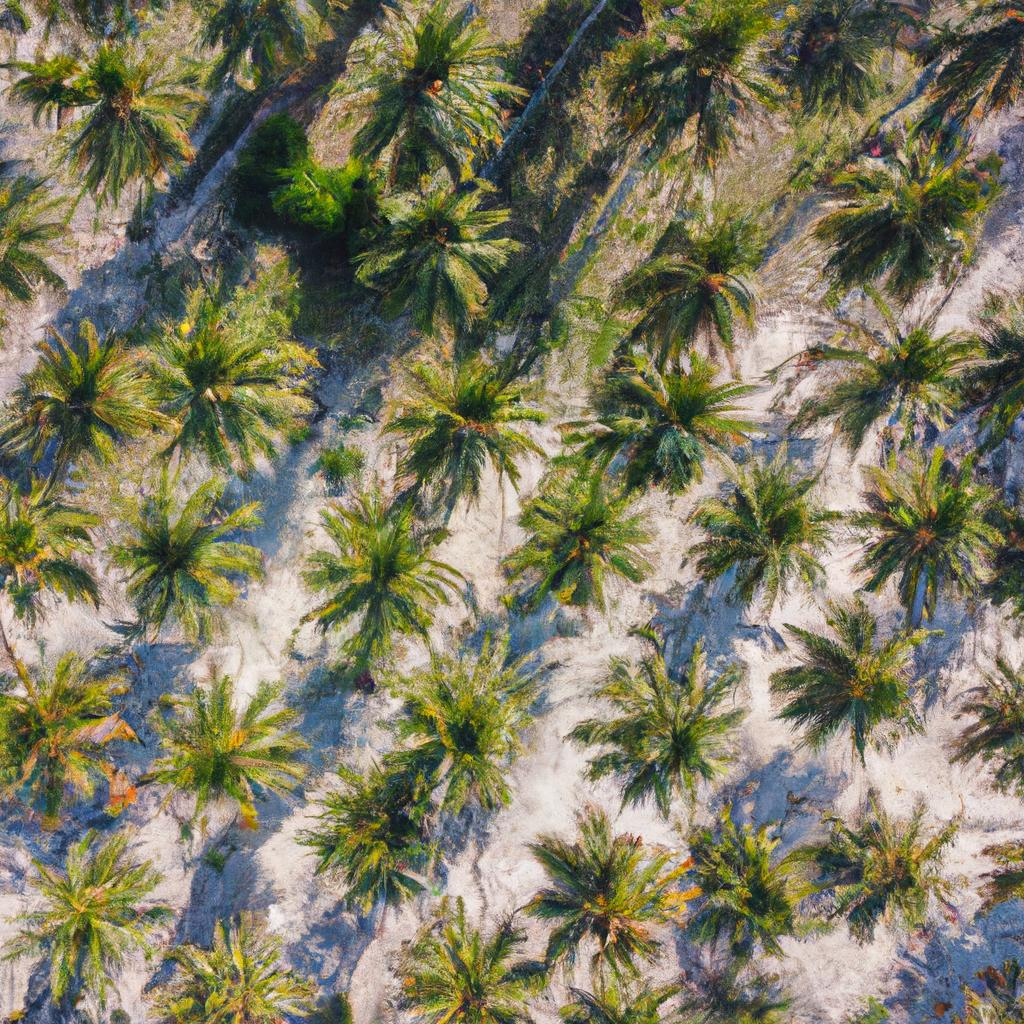coconut_tree: (335, 18, 548, 167), (155, 299, 318, 481), (762, 604, 948, 756), (837, 458, 1018, 613), (0, 647, 151, 829), (805, 786, 981, 940), (348, 175, 521, 326), (604, 202, 764, 362), (310, 773, 491, 913), (591, 640, 751, 797), (301, 507, 455, 662), (23, 828, 156, 1005), (583, 350, 767, 472), (78, 37, 207, 208), (524, 824, 691, 954), (10, 313, 148, 470), (123, 485, 264, 635), (392, 886, 546, 1023), (372, 337, 550, 453), (678, 820, 820, 964), (163, 680, 296, 830), (508, 478, 643, 624), (697, 469, 828, 610), (404, 686, 542, 805)
